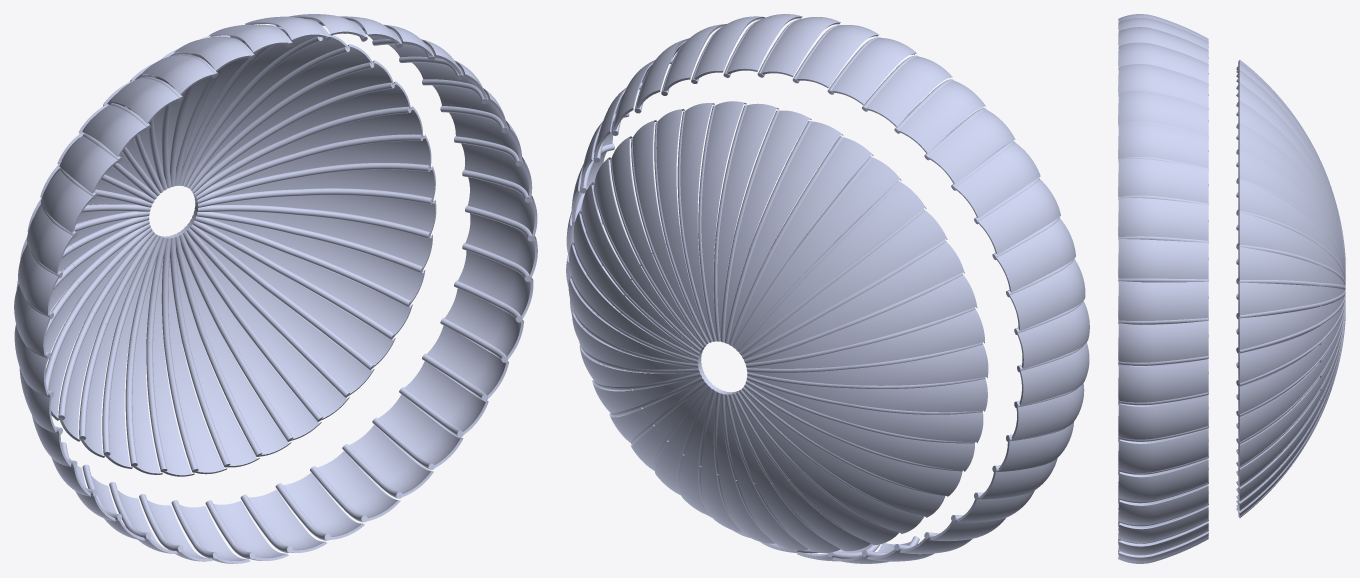
Rendered from project 2.fbx.
3 views of the same model, side by side, from view 1: azimuth 30°, elevation 25°; view 2: azimuth 150°, elevation 25°; view 3: azimuth 270°, elevation 25° (orthographic). The views are drawn at different scales.
Parts seen in each view (by area): view 1: Body_103, Body_104, Body_102, Body_105, Body_101, Body_106, Body_100, Body_107, Body_99, Body_181, Body_182, Body_180 (+107 smaller); view 2: Body_83, Body_82, Body_84, Body_81, Body_85, Body_80, Body_86, Body_79, Body_87, Body_239, Body_88, Body_117 (+85 smaller); view 3: Body_173, Body_174, Body_172, Body_175, Body_171, Body_176, Body_170, Body_177, Body_169, Body_178, Body_168, Body_179 (+37 smaller).
Boxes of the visible parts, x1=… form: Body_103: x1=268, y1=271, x2=395, y2=368; Body_104: x1=255, y1=288, x2=374, y2=396; Body_102: x1=279, y1=253, x2=412, y2=337; Body_105: x1=240, y1=304, x2=349, y2=420; Body_101: x1=288, y1=234, x2=425, y2=304; Body_106: x1=223, y1=317, x2=321, y2=440; Body_100: x1=295, y1=215, x2=432, y2=270; Body_107: x1=206, y1=328, x2=291, y2=456; Body_99: x1=299, y1=195, x2=436, y2=235; Body_181: x1=404, y1=361, x2=488, y2=434; Body_182: x1=378, y1=394, x2=463, y2=467; Body_180: x1=427, y1=325, x2=508, y2=397; Body_83: x1=818, y1=210, x2=947, y2=307; Body_82: x1=830, y1=241, x2=964, y2=326; Body_84: x1=805, y1=182, x2=926, y2=290; Body_81: x1=839, y1=275, x2=977, y2=345; Body_85: x1=790, y1=157, x2=901, y2=274; Body_80: x1=846, y1=309, x2=984, y2=365; Body_86: x1=773, y1=137, x2=873, y2=261; Body_79: x1=850, y1=344, x2=988, y2=385; Body_87: x1=755, y1=121, x2=843, y2=250; Body_239: x1=851, y1=378, x2=987, y2=412; Body_88: x1=737, y1=110, x2=811, y2=241; Body_117: x1=847, y1=407, x2=983, y2=443; Body_173: x1=1118, y1=239, x2=1208, y2=279; Body_174: x1=1118, y1=281, x2=1208, y2=320; Body_172: x1=1118, y1=198, x2=1208, y2=240; Body_175: x1=1118, y1=320, x2=1208, y2=362; Body_171: x1=1118, y1=159, x2=1208, y2=203; Body_176: x1=1118, y1=359, x2=1208, y2=402; Body_170: x1=1118, y1=123, x2=1208, y2=168; Body_177: x1=1118, y1=395, x2=1208, y2=439; Body_169: x1=1118, y1=91, x2=1208, y2=136; Body_178: x1=1118, y1=429, x2=1208, y2=472; Body_168: x1=1118, y1=64, x2=1208, y2=107; Body_179: x1=1118, y1=459, x2=1208, y2=501.
Bounding box in the file's own units: 21.45 × 8.89 × 21.45.
